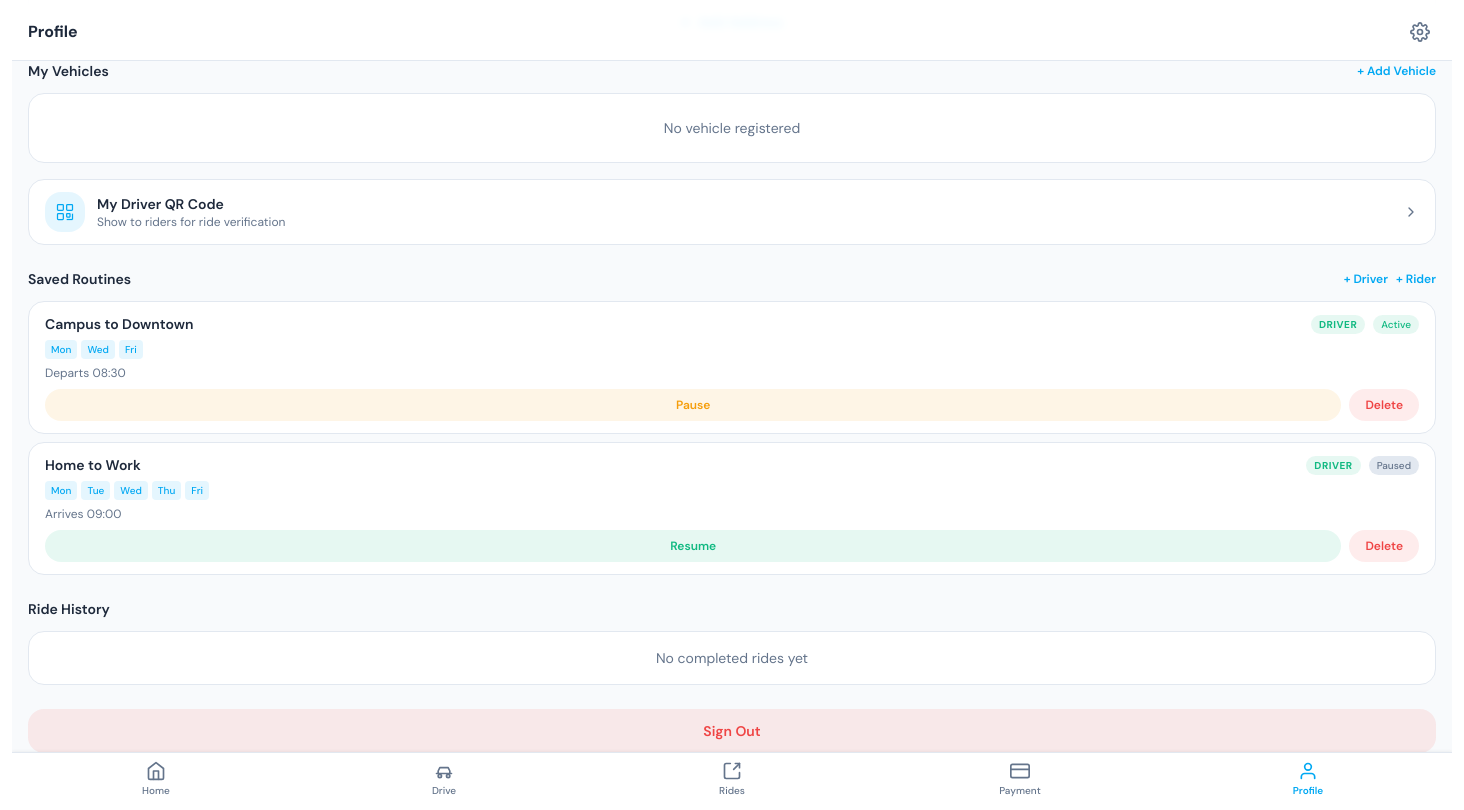
Test case: ProfilePage › delete route removes it from the list
(page scrolled)
Expected: the element with test id "route-route-002" is shown, [28,442,1436,575]
Step 1. Click the button with test id "delete-route-route-002" → (1384, 546), box [1349,530,1419,562]
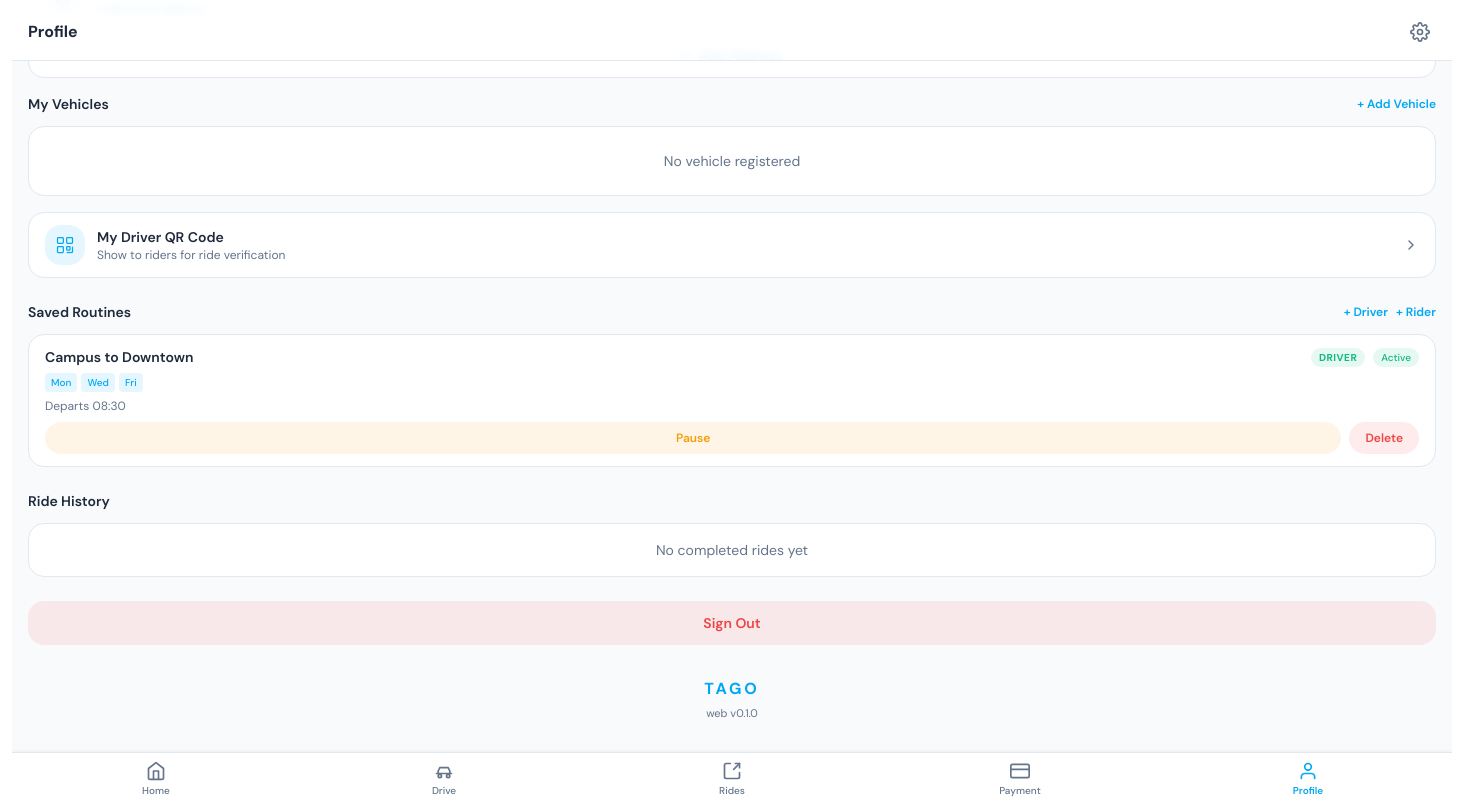
Expected: the element with test id "route-route-002" is gone
